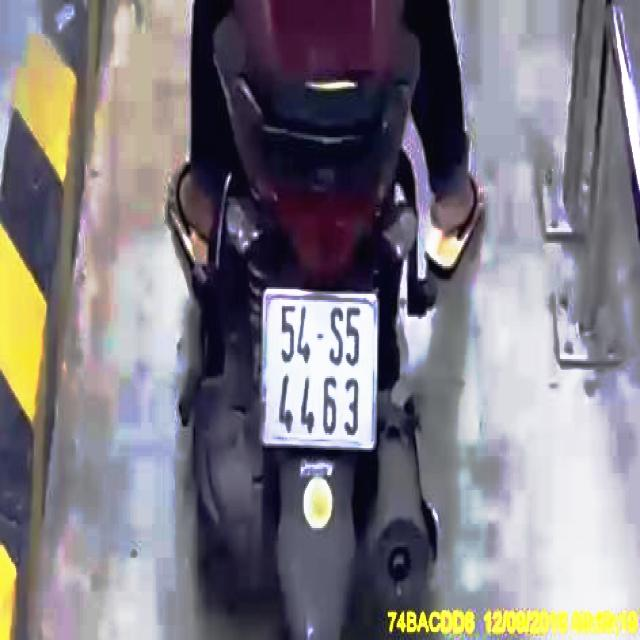license_plate: (266, 297, 376, 450)
